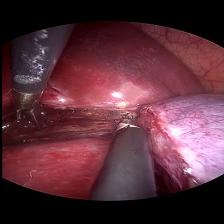Grasper: (10, 92, 50, 134)
Hook: (96, 111, 146, 135)
